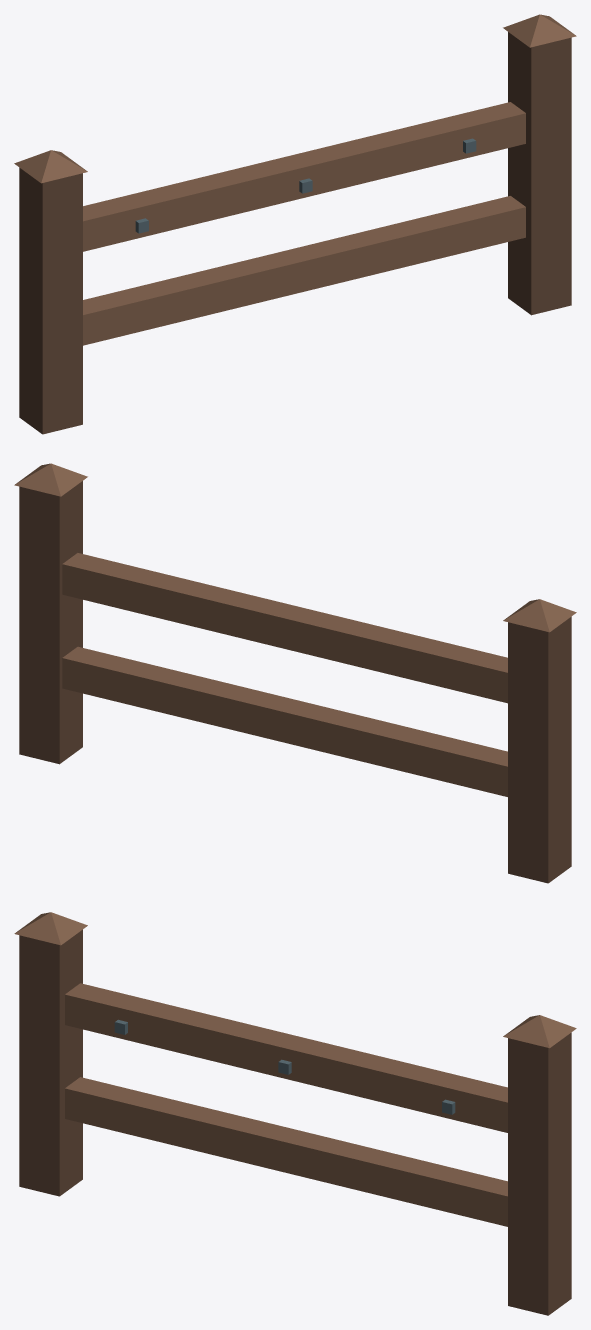
Rendered from ENV_Fence_A_LOD0.glb.
3 views of the same model, one above another, from view 1: azimuth 30°, elevation 25°; view 2: azimuth 150°, elevation 25°; view 3: azimuth 330°, elevation 25° (orthographic).
Visible parts, largest first — view 1: ENV_Fence_A_LOD0_timber_wood, ENV_Fence_A_LOD0_timber_woodDark, ENV_Fence_A_LOD0_timber_iron; view 2: ENV_Fence_A_LOD0_timber_wood, ENV_Fence_A_LOD0_timber_woodDark; view 3: ENV_Fence_A_LOD0_timber_wood, ENV_Fence_A_LOD0_timber_woodDark, ENV_Fence_A_LOD0_timber_iron.
Part boxes in pixels (x1,y1,x2,y2): ENV_Fence_A_LOD0_timber_wood: (14,14,576,345); ENV_Fence_A_LOD0_timber_woodDark: (19,32,571,434); ENV_Fence_A_LOD0_timber_iron: (135,138,476,233); ENV_Fence_A_LOD0_timber_wood: (14,463,576,796); ENV_Fence_A_LOD0_timber_woodDark: (19,481,571,883); ENV_Fence_A_LOD0_timber_wood: (14,912,576,1226); ENV_Fence_A_LOD0_timber_woodDark: (19,929,571,1315); ENV_Fence_A_LOD0_timber_iron: (114,1019,455,1114).
Bounding box in the file's own units: 2.39 × 1.23 × 0.21.
